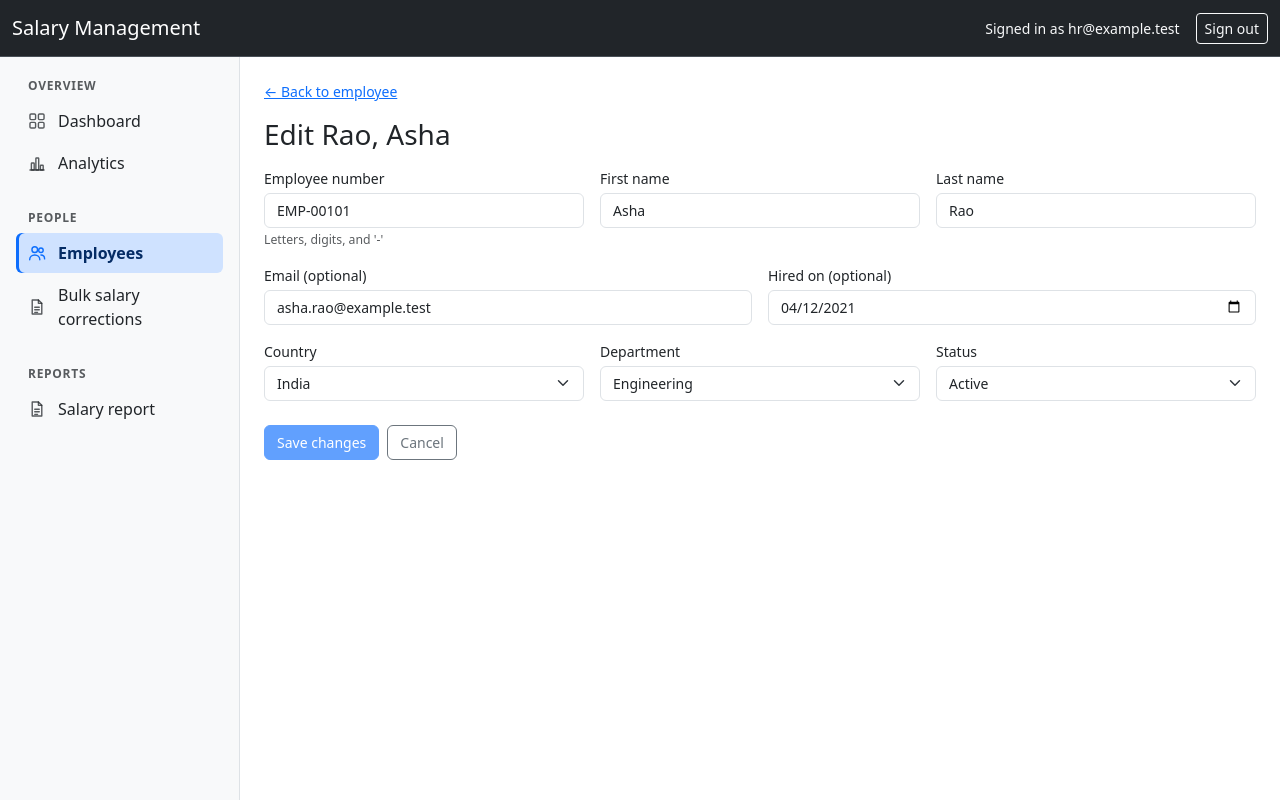
Test: EmployeeEditPage › sends only the changed fields and returns to the employee with a notice
The width and height of the screenshot is (1280, 800).
Expected: the heading "Edit Rao, Asha" is shown, [264,115,451,153]
Select "Finance" in the dropdown labelled "Department" at (760, 384), box [600,366,920,401]
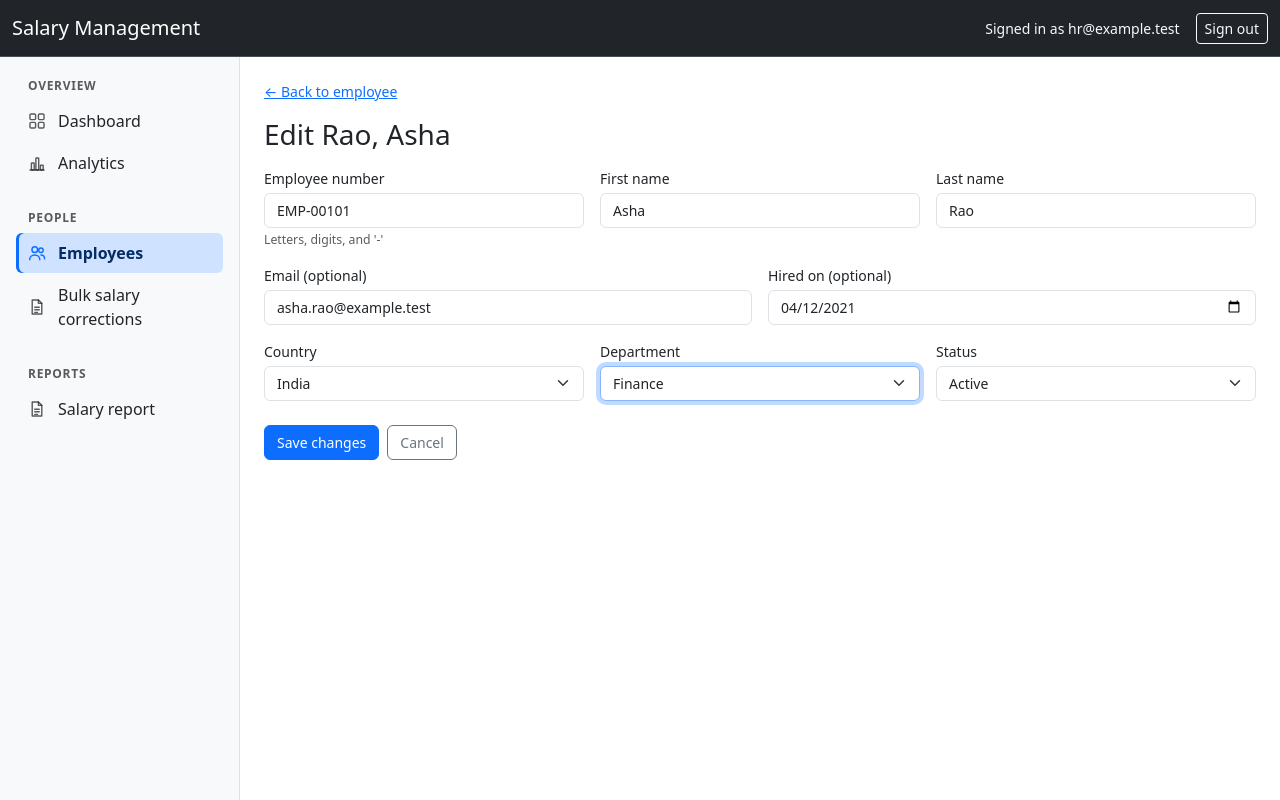
Click the button "Save changes" at (322, 442), box [264,425,379,460]
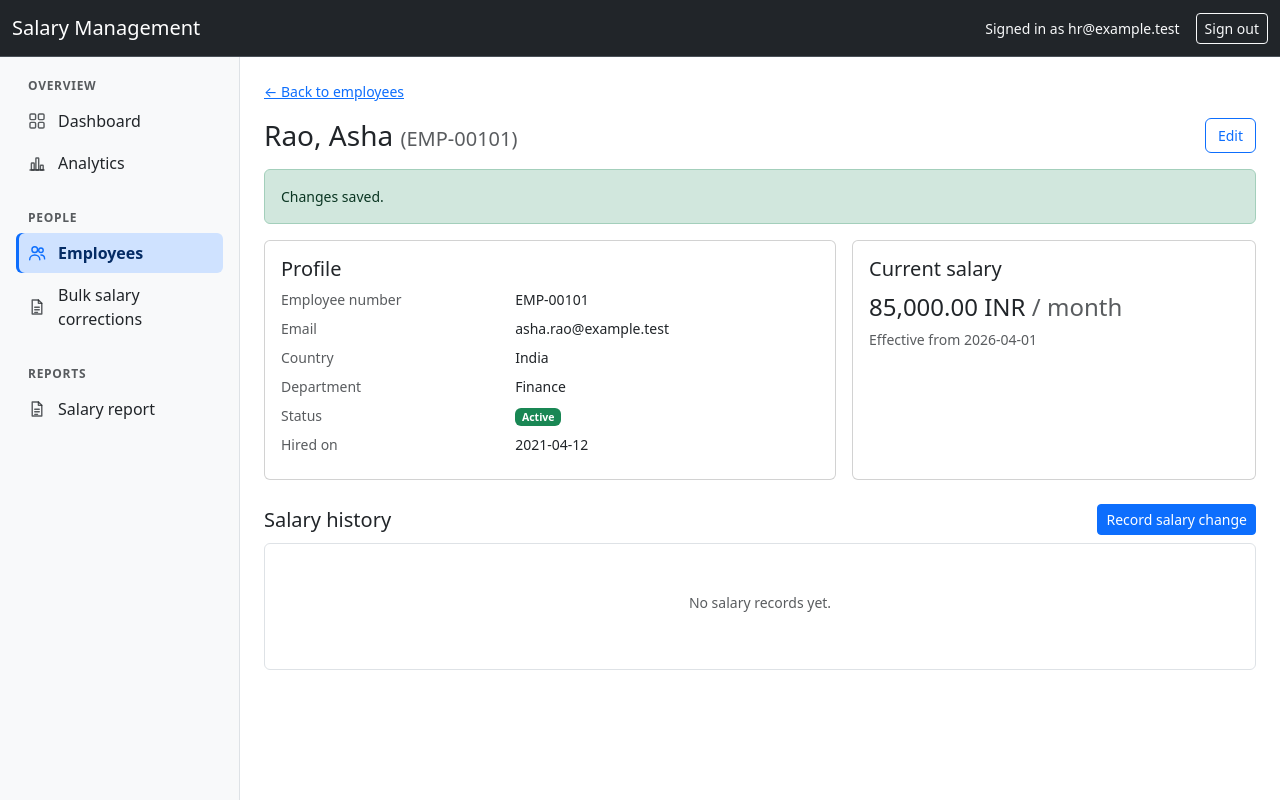
Expected: the text "Changes saved." is shown, [264,169,1256,224]
